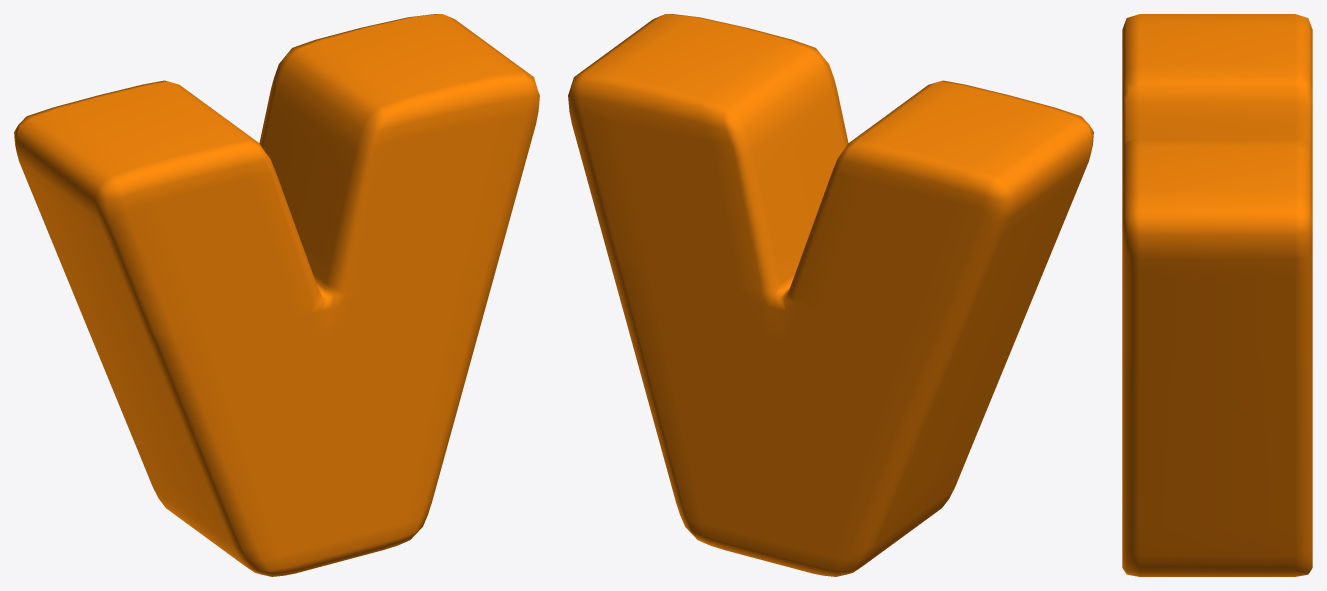
The picture shows the model from 3 angles, left to right: view 1: azimuth 30°, elevation 25°; view 2: azimuth 150°, elevation 25°; view 3: azimuth 270°, elevation 25°; orthographic projection. The views are drawn at different scales.
Visible parts, largest first — view 1: LETTER_V; view 2: LETTER_V; view 3: LETTER_V.
Boxes of the visible parts, <box> form: LETTER_V: <box>14,14,539,576</box>; LETTER_V: <box>568,14,1093,576</box>; LETTER_V: <box>1122,14,1312,576</box>.
Bounding box in the file's own units: 1.04 × 1 × 0.3945.
